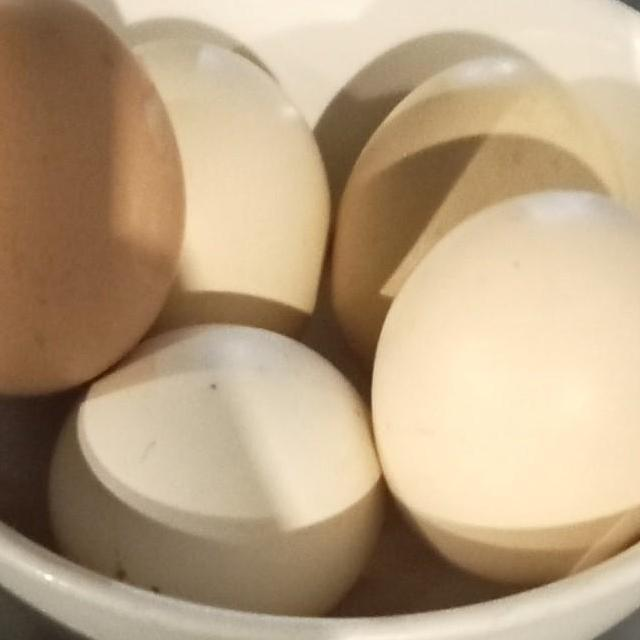trung: (357, 182, 640, 599), (33, 316, 389, 634), (315, 48, 629, 376), (0, 0, 198, 400), (111, 28, 339, 362)
